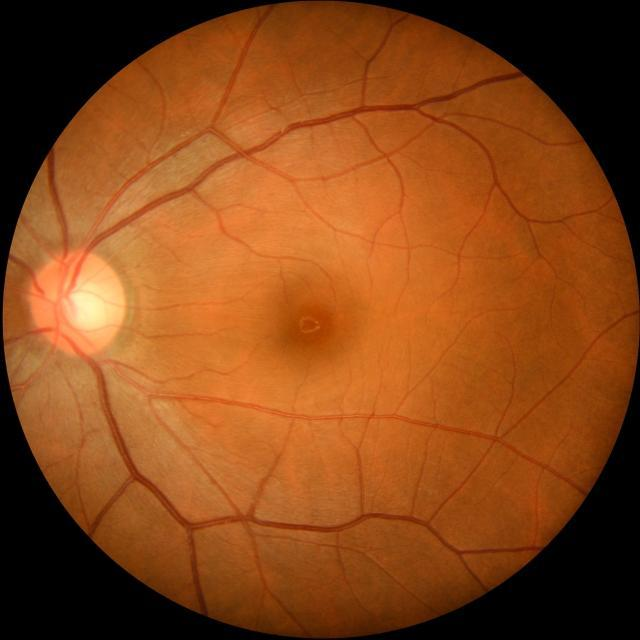OC: (55, 279, 108, 333)
OD: (28, 250, 122, 353)
